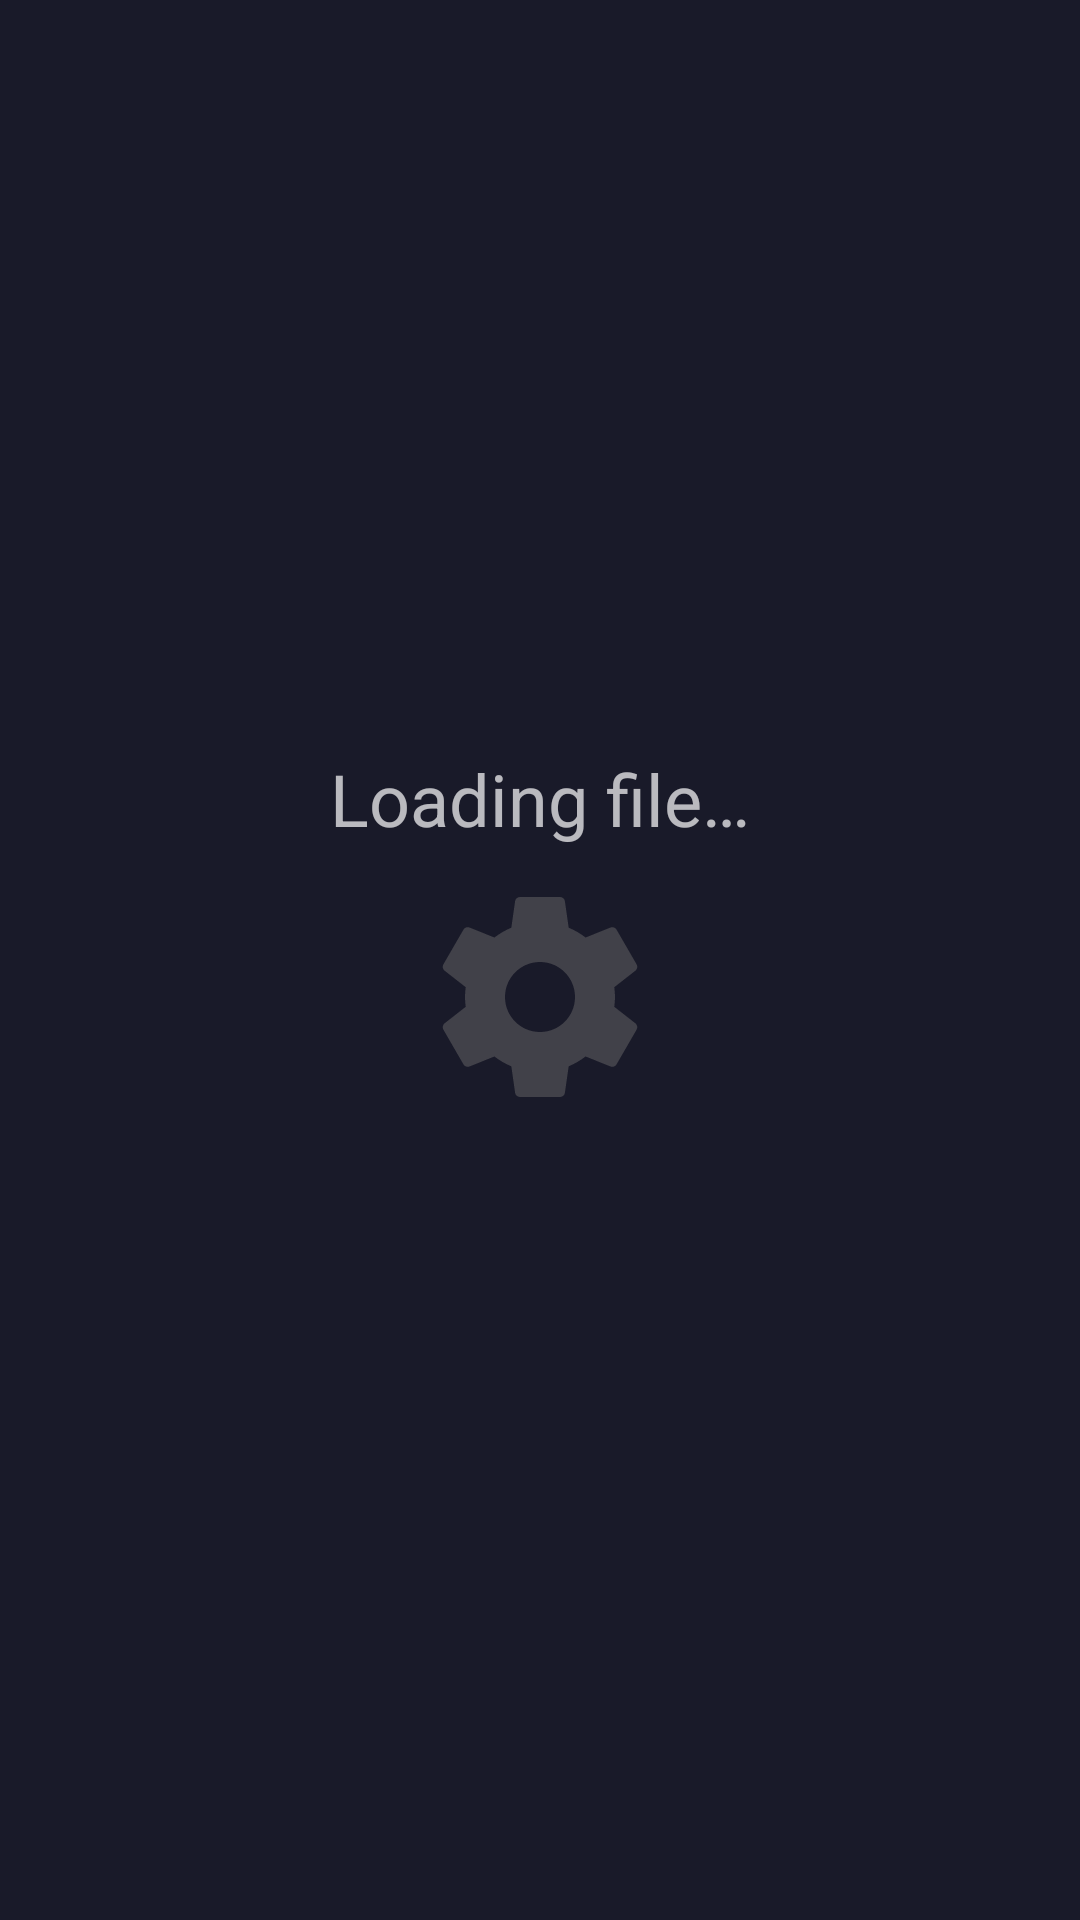

Point at icon controls on the screen. Image size 1080×1920, points as [x,y].
gear: [540,997]
